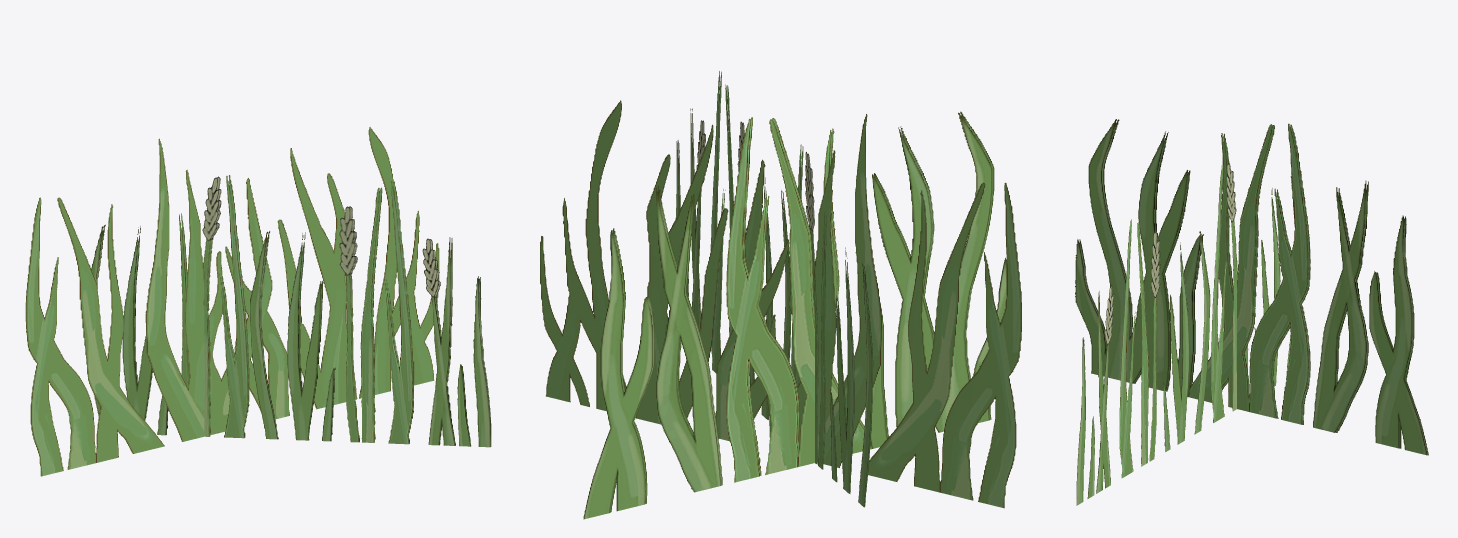
File: grass01.fbx
The picture shows the model from 3 angles, left to right: view 1: azimuth 30°, elevation 25°; view 2: azimuth 150°, elevation 25°; view 3: azimuth 270°, elevation 25°; orthographic projection. The views are drawn at different scales.
Parts seen in each view (by area): view 1: polySurface6; view 2: polySurface6; view 3: polySurface6.
Boxes of the visible parts, box(x1,y1,x2,y2) form: polySurface6: box(25, 127, 491, 476); polySurface6: box(540, 71, 1021, 519); polySurface6: box(1075, 119, 1428, 505).
Size of the model in its own units: 4.18 by 2.93 by 3.29.
Materials: 1 (1 with a texture image).
